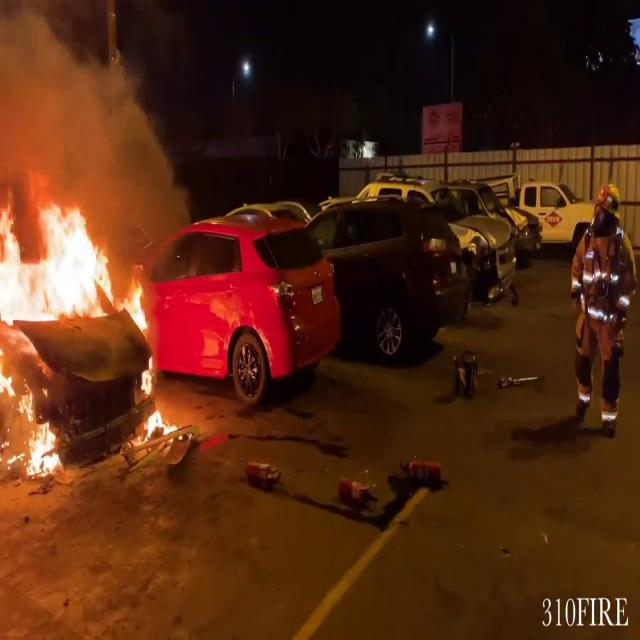Fire: (3, 165, 180, 467), (0, 313, 68, 478)
